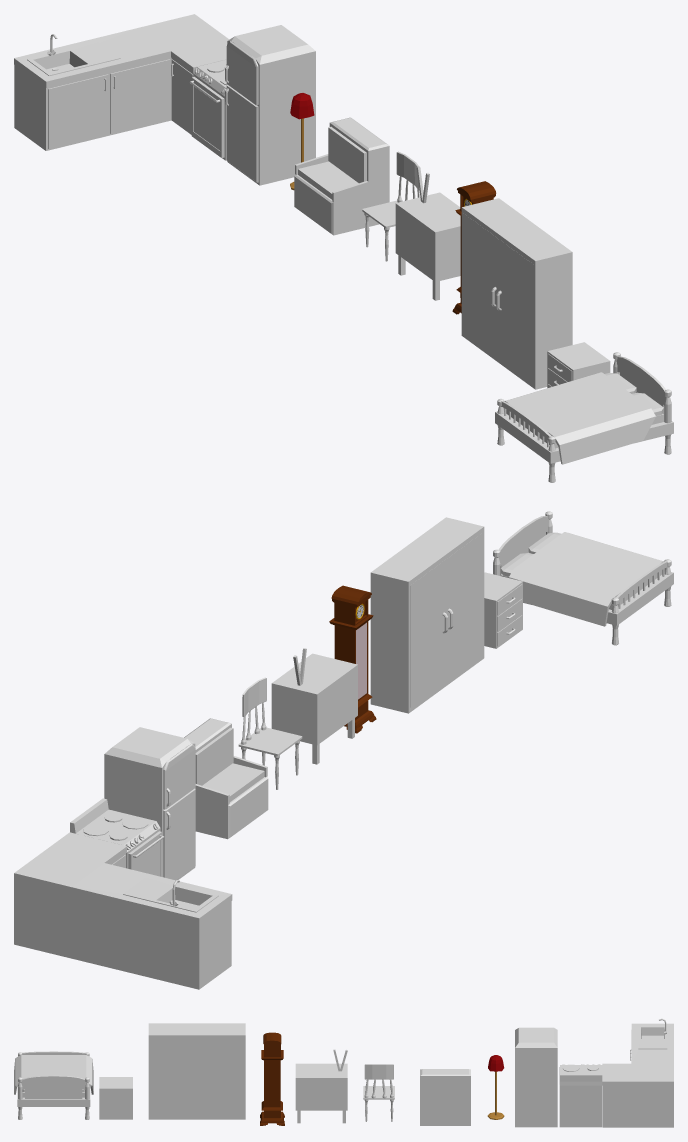
File: Furniture.fbx
3 views of the same model, one above another, from view 1: azimuth 30°, elevation 25°; view 2: azimuth 150°, elevation 25°; view 3: azimuth 270°, elevation 25° (orthographic). The views are drawn at different scales.
Visible parts, largest first — view 1: Fridge, Sofa, Wardrobe, Cube.004, CounterTop, TV, Door, Door.001, Door.003, Door.002, Cabinet2, FridgeDoor (+12 smaller); view 2: Cabinet2, Wardrobe, Cube.004, CounterTop, Sofa, TV, Fridge, Door.001, Door, Cabinet1, Clock, FridgeDoor (+10 smaller); view 3: Wardrobe, Fridge, Cabinet1, Sofa, CounterTop, Oven, TV, Cube.004, Clock, Drawer, Cube.001, Chair (+7 smaller).
Part boxes in pixels (<box>): Fridge: <box>227,25,315,185</box>; Sofa: <box>294,117,389,235</box>; Wardrobe: <box>461,198,572,389</box>; Cube.004: <box>503,372,655,464</box>; CounterTop: <box>14,14,229,87</box>; TV: <box>395,192,460,281</box>; Door: <box>498,239,533,383</box>; Door.001: <box>463,213,498,357</box>; Door.003: <box>110,59,170,133</box>; Door.002: <box>48,74,108,148</box>; Cabinet2: <box>14,57,171,150</box>; FridgeDoor: <box>226,84,258,182</box>; Cabinet2: <box>70,893,231,989</box>; Wardrobe: <box>370,517,484,713</box>; Cube.004: <box>509,532,665,626</box>; CounterTop: <box>14,832,232,924</box>; Sofa: <box>184,718,268,839</box>; TV: <box>271,653,357,745</box>; Fridge: <box>104,727,195,879</box>; Door.001: <box>410,559,446,707</box>; Door: <box>446,532,482,680</box>; Cabinet1: <box>14,854,125,957</box>; Clock: <box>329,585,376,733</box>; FridgeDoor: <box>163,788,195,880</box>; Wardrobe: <box>148,1023,245,1119</box>; Fridge: <box>515,1027,557,1127</box>; Cabinet1: <box>602,1085,673,1127</box>; Sofa: <box>420,1069,470,1125</box>; CounterTop: <box>602,1023,673,1085</box>; Oven: <box>559,1065,602,1127</box>; TV: <box>295,1063,347,1110</box>; Cube.004: <box>14,1055,93,1094</box>; Clock: <box>260,1032,284,1125</box>; Drawer: <box>99,1077,132,1119</box>; Cube.001: <box>21,1075,86,1098</box>; Chair: <box>363,1064,394,1121</box>.
Bounding box in the file's own units: 483 × 332 × 2304.
